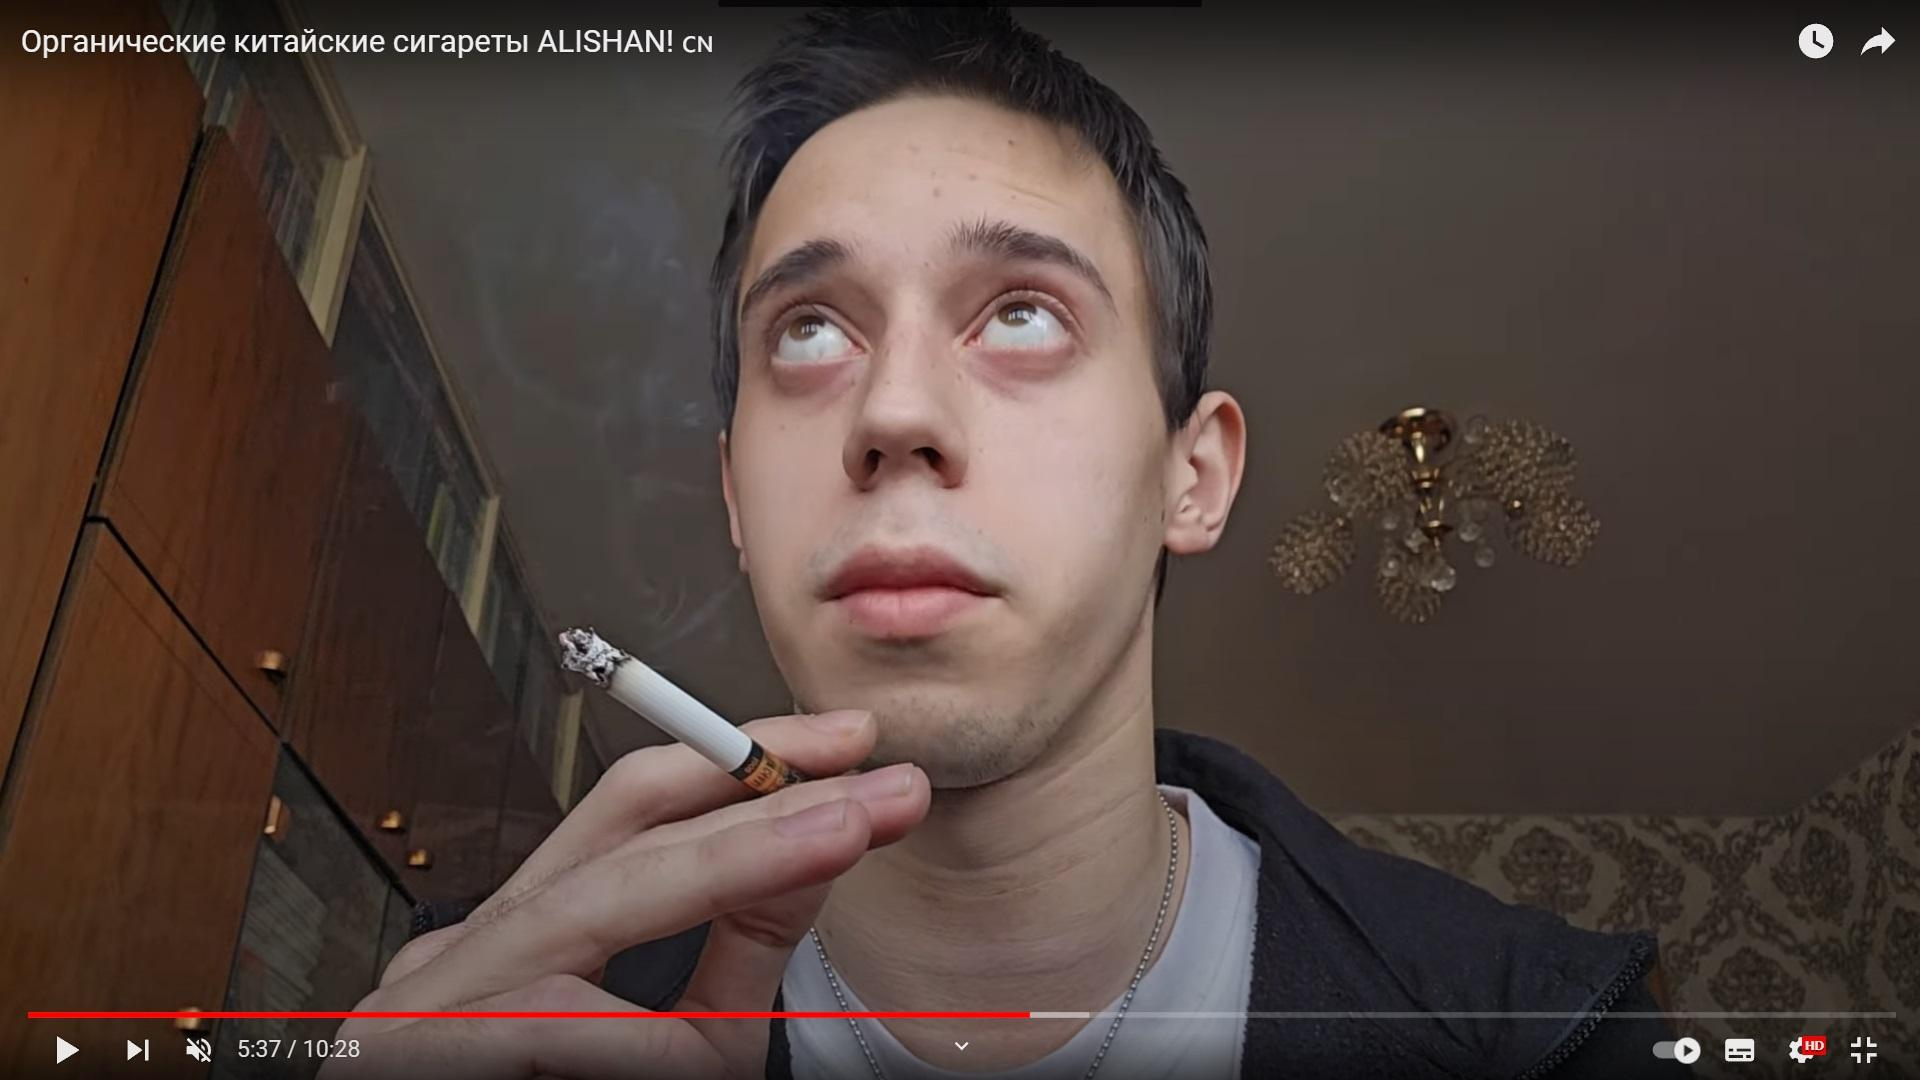cigarette: (558, 626, 800, 793)
